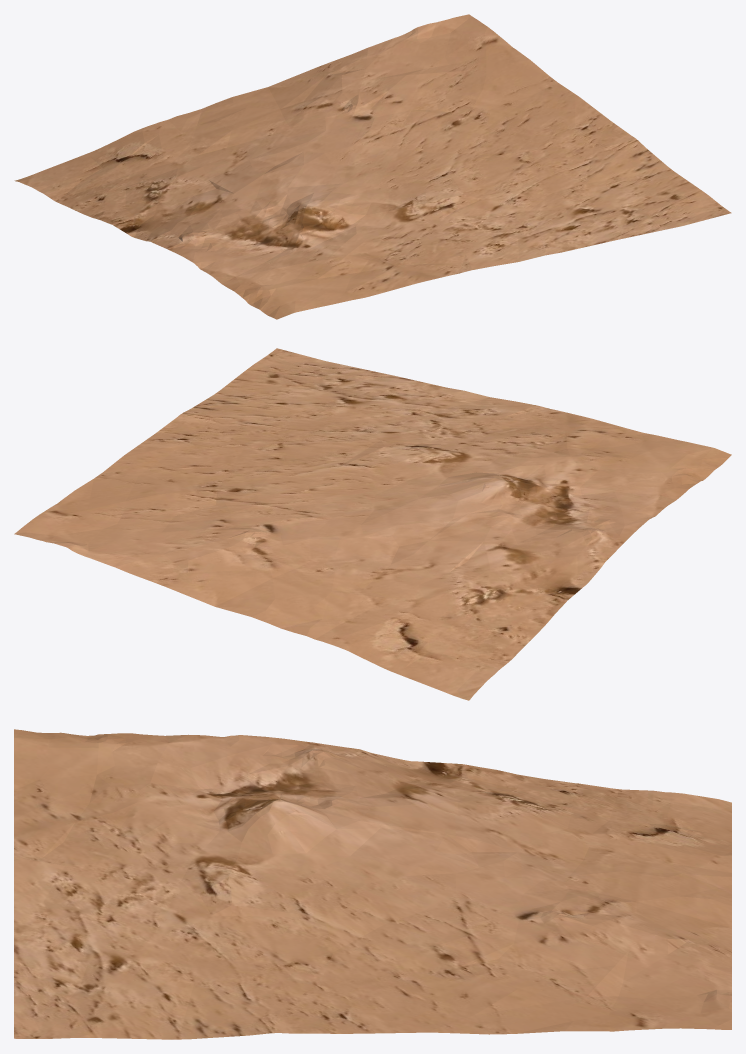
The picture shows the model from 3 angles, top to bottom: view 1: azimuth 30°, elevation 25°; view 2: azimuth 150°, elevation 25°; view 3: azimuth 270°, elevation 25°; orthographic projection. The views are drawn at different scales.
Bounding box in the file's own units: 1.04 × 0.1421 × 1.04.
2 materials, 2 textured.
